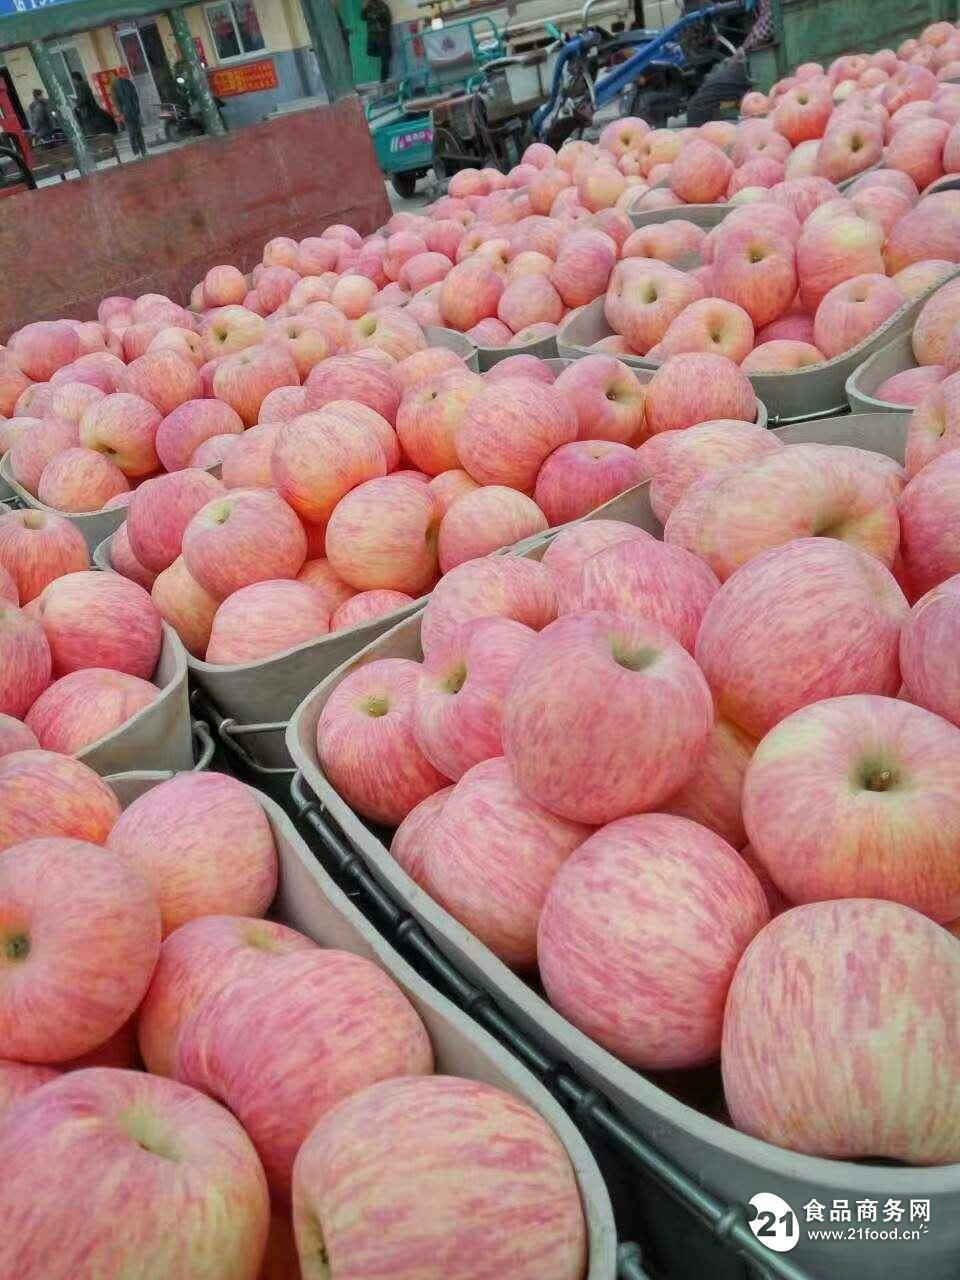apple: (168, 950, 435, 1211), (720, 896, 960, 1159), (537, 815, 771, 1077), (293, 1073, 587, 1280), (1, 1067, 270, 1279), (503, 610, 713, 823), (744, 694, 954, 907), (1, 838, 162, 1060), (705, 434, 905, 584), (105, 772, 281, 923), (317, 655, 451, 817), (408, 617, 542, 779), (34, 569, 166, 677), (183, 487, 307, 598), (326, 475, 443, 592), (456, 376, 577, 487), (275, 411, 388, 512), (204, 580, 327, 664), (892, 446, 958, 603), (601, 257, 702, 350), (554, 350, 648, 447), (399, 372, 493, 469), (798, 212, 890, 305), (709, 224, 801, 317), (648, 295, 753, 369), (816, 277, 902, 356), (814, 275, 899, 354)
